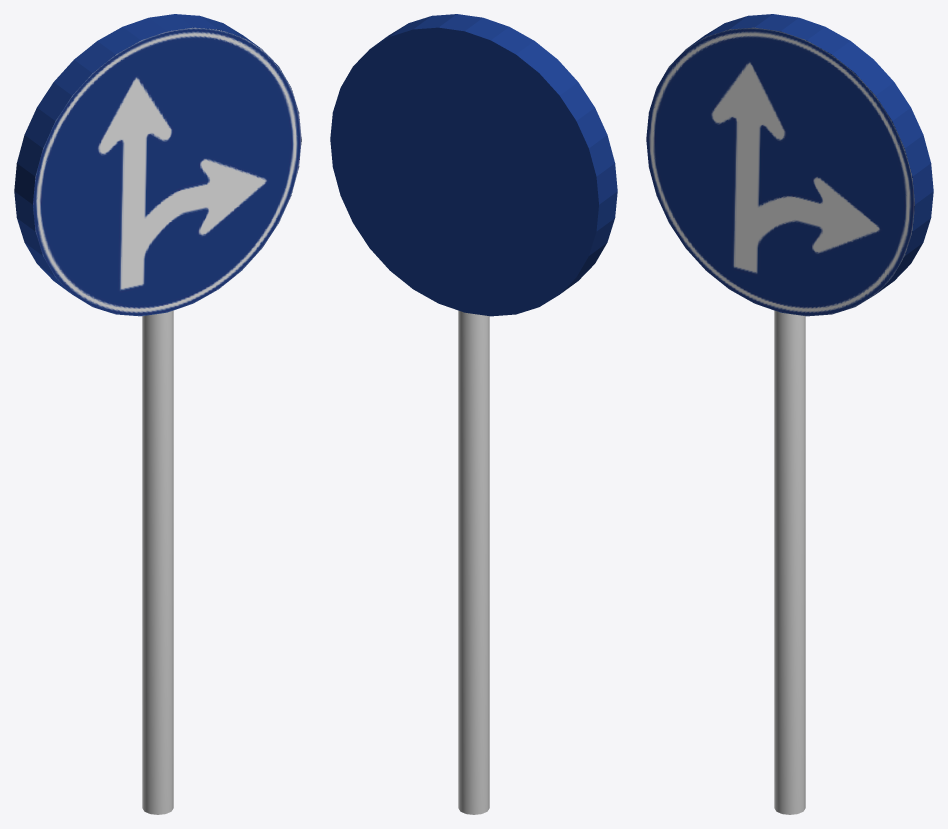
Rendered from Verkeersbord_Rechts_Rechtdoor.fbx.
3 views of the same model, side by side, from view 1: azimuth 30°, elevation 25°; view 2: azimuth 150°, elevation 25°; view 3: azimuth 330°, elevation 25° (orthographic).
Parts seen in each view (by area): view 1: Cylinder.001, Cylinder.002; view 2: Cylinder.001, Cylinder.002; view 3: Cylinder.001, Cylinder.002.
Part boxes in pixels (bbox=[...]): Cylinder.001: bbox=[14, 14, 301, 316]; Cylinder.002: bbox=[142, 310, 173, 814]; Cylinder.001: bbox=[330, 14, 617, 316]; Cylinder.002: bbox=[458, 310, 489, 814]; Cylinder.001: bbox=[646, 14, 933, 316]; Cylinder.002: bbox=[774, 310, 805, 814].
Bounding box in the file's own units: 200 × 557 × 24.
Materials: 1 (1 with a texture image).
